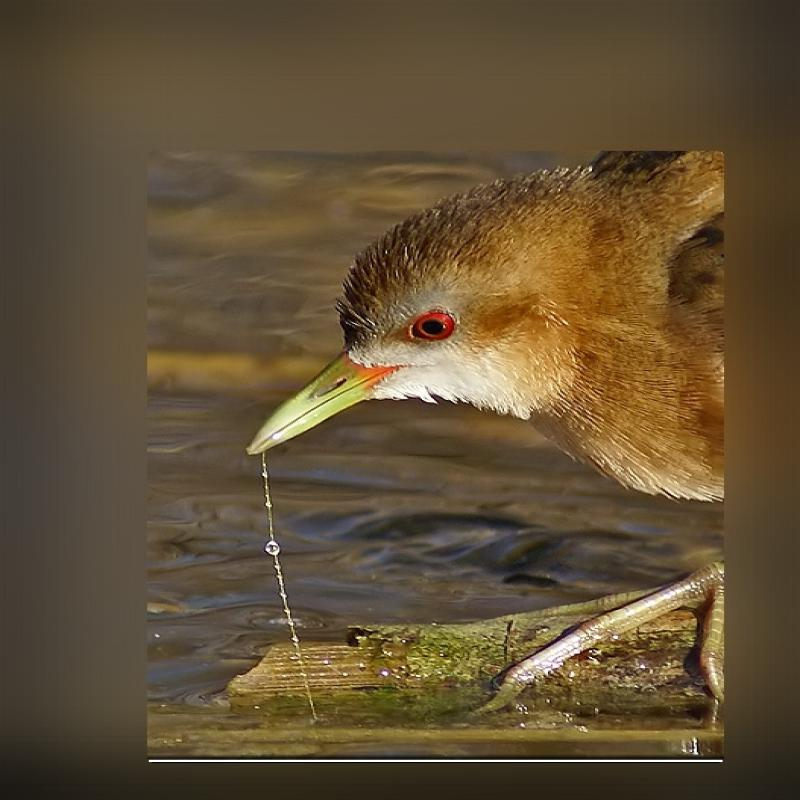little crake: (251, 157, 731, 534)
